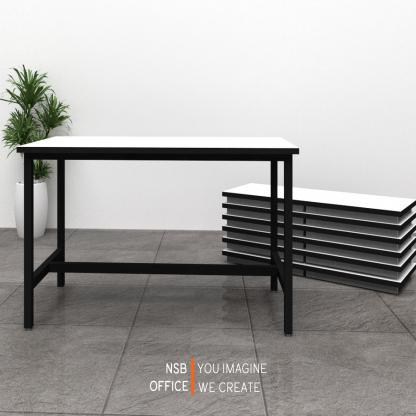table: (13, 124, 304, 341)
